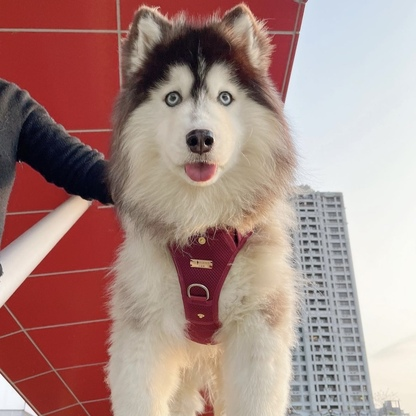husky: (98, 1, 308, 416)
